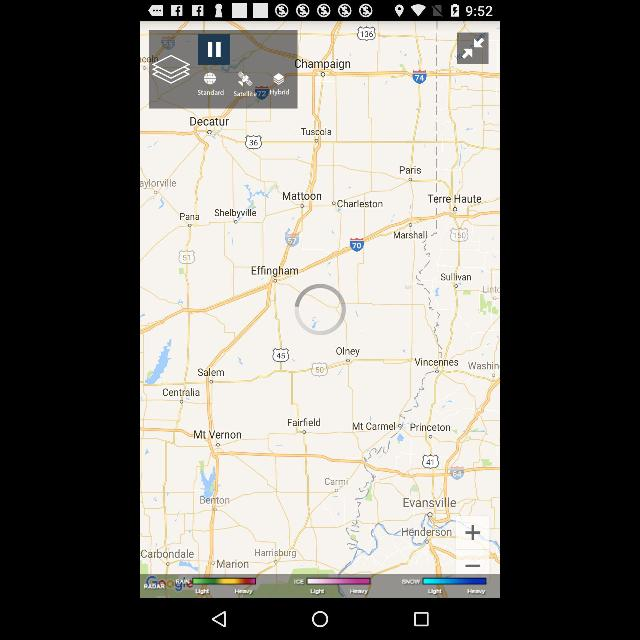icon: (212, 612, 228, 628), (312, 612, 328, 626), (414, 613, 428, 625)
map: (140, 20, 500, 598)
panel: (140, 598, 500, 640)
uppertaskbar: (140, 1, 500, 22)
